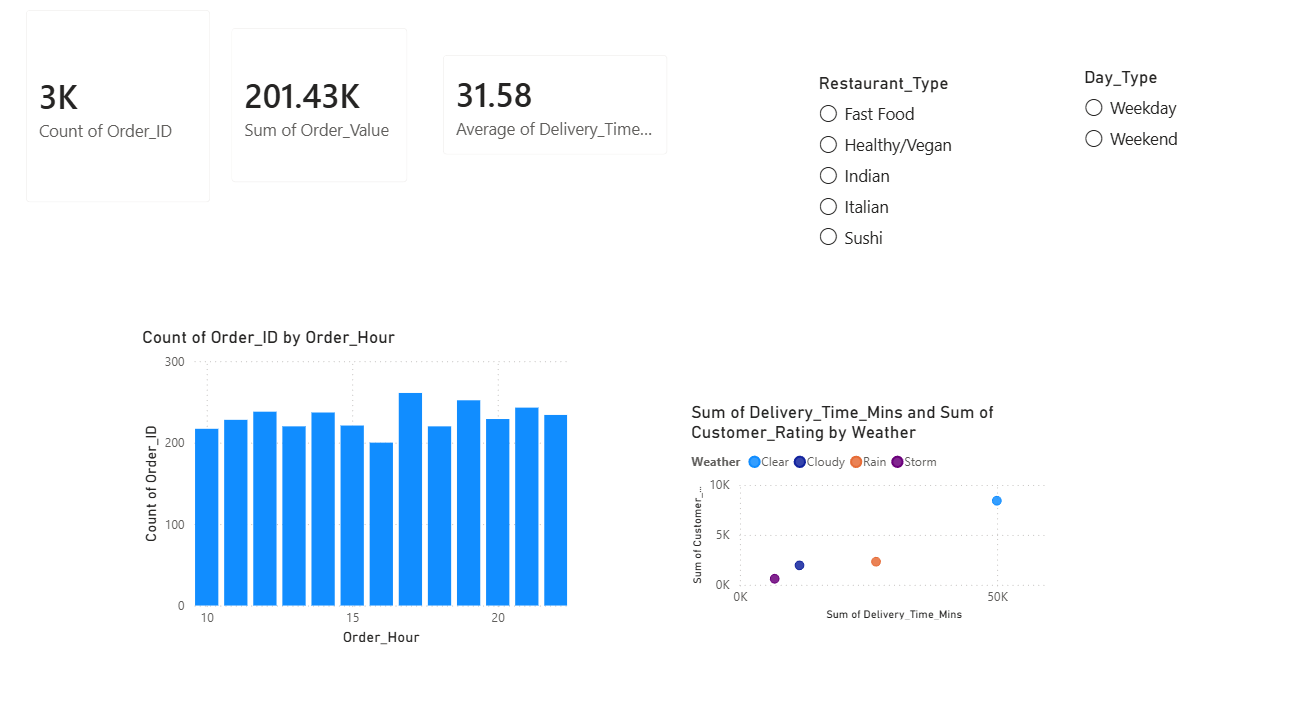

The dashboard page shown, as its layout file describes it:
{"tool":"powerbi","page":{"name":"Page 1","canvas":[1280,720],"ordinal":0},"visuals":[{"type":"cardVisual","fields":{"Data":["Count(cleaned_food_delivery.Order_ID)"]},"box":[9.4,0,213.5,221.1],"z":0},{"type":"cardVisual","fields":{"Data":["Sum(cleaned_food_delivery.Order_Value)"]},"box":[207.4,18.2,205.9,184.7],"z":1},{"type":"cardVisual","fields":{"Data":["Avg(cleaned_food_delivery.Delivery_Time_Mins)"]},"box":[413.4,43.9,252.9,131.7],"z":2},{"type":"clusteredColumnChart","fields":{"Category":["cleaned_food_delivery.Order_Hour"],"Y":["CountNonNull(cleaned_food_delivery.Order_ID)"]},"box":[133.3,324,422.5,313.4],"z":3},{"type":"scatterChart","fields":{"X":["Sum(cleaned_food_delivery.Delivery_Time_Mins)"],"Y":["Sum(cleaned_food_delivery.Customer_Rating)"],"Series":["cleaned_food_delivery.Weather"]},"box":[666.3,396.7,366.4,216.5],"z":4},{"type":"listSlicer","fields":{"Values":["cleaned_food_delivery.Restaurant_Type"]},"box":[790.4,78.7,165,216.5],"z":5},{"type":"listSlicer","fields":{"Values":["cleaned_food_delivery.Day_Type"]},"box":[1047.8,72.7,165,230.2],"z":6}]}

Visuals, with their boxes in screenshot pixels (x1, y1, x2, y2), scaled from the page's 1280x720 canvas onto the 1314x724 screenshot:
cardVisual - Count(cleaned_food_delivery.Order_ID): 10 0 229 222
cardVisual - Sum(cleaned_food_delivery.Order_Value): 213 18 424 204
cardVisual - Avg(cleaned_food_delivery.Delivery_Time_Mins): 424 44 684 177
clusteredColumnChart - cleaned_food_delivery.Order_Hour x CountNonNull(cleaned_food_delivery.Order_ID): 137 326 571 641
scatterChart - Sum(cleaned_food_delivery.Delivery_Time_Mins) x Sum(cleaned_food_delivery.Customer_Rating): 684 399 1060 617
listSlicer - cleaned_food_delivery.Restaurant_Type: 811 79 981 297
listSlicer - cleaned_food_delivery.Day_Type: 1076 73 1245 305
